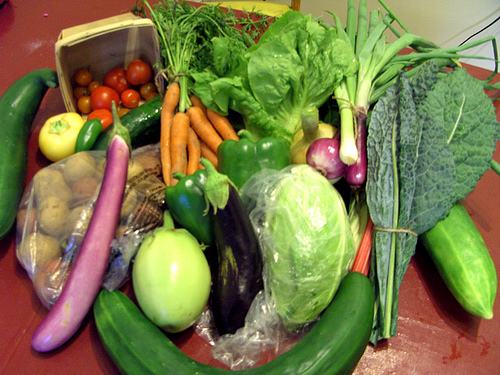cabbage: (257, 160, 355, 330)
